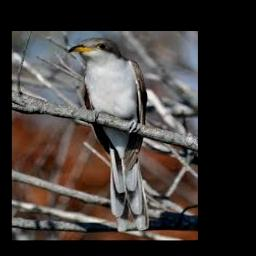Cuckoo: (68, 38, 148, 230)
